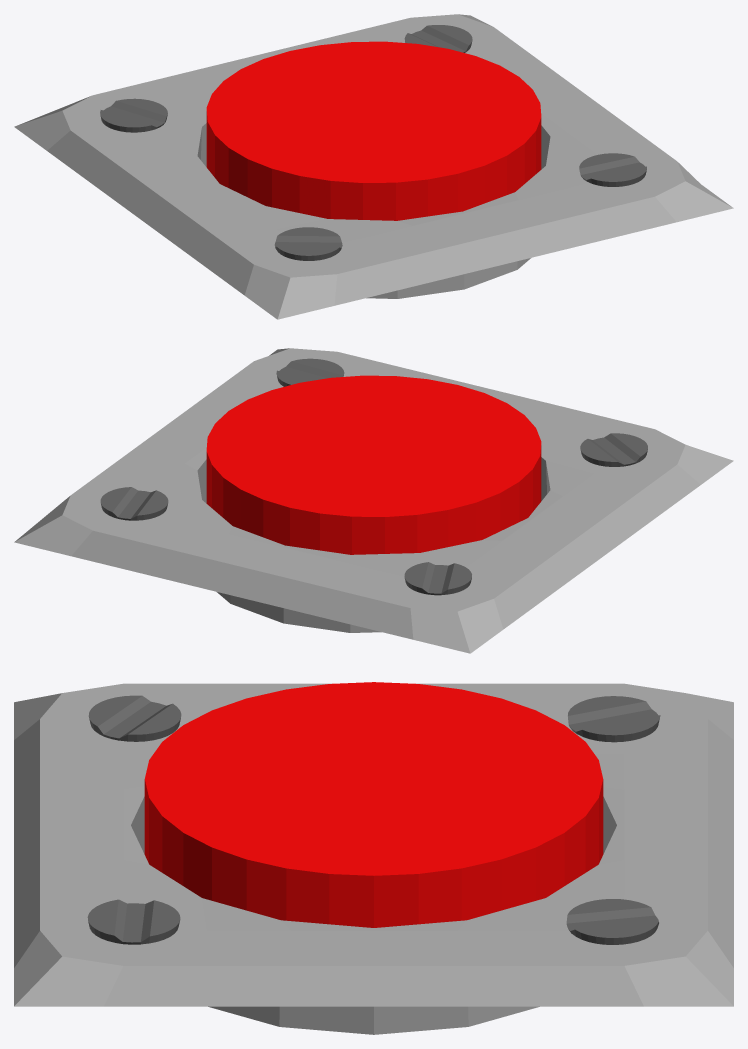
3 views of the same model, one above another, from view 1: azimuth 30°, elevation 25°; view 2: azimuth 150°, elevation 25°; view 3: azimuth 270°, elevation 25° (orthographic). The views are drawn at different scales.
Visible parts, largest first — view 1: Plane, Circle, Circle.018; view 2: Plane, Circle, Circle.018; view 3: Plane, Circle, Circle.018.
Part boxes in pixels (left/top/right/bottom): Plane: left=14, top=14, right=733, bottom=319; Circle: left=206, top=41, right=541, bottom=220; Circle.018: left=100, top=25, right=646, bottom=260; Plane: left=14, top=348, right=733, bottom=653; Circle: left=206, top=375, right=541, bottom=554; Circle.018: left=100, top=358, right=647, bottom=595; Plane: left=14, top=683, right=733, bottom=1034; Circle: left=144, top=682, right=603, bottom=927; Circle.018: left=87, top=695, right=660, bottom=944.
Size of the model in its own units: 104 by 24.15 by 104.
